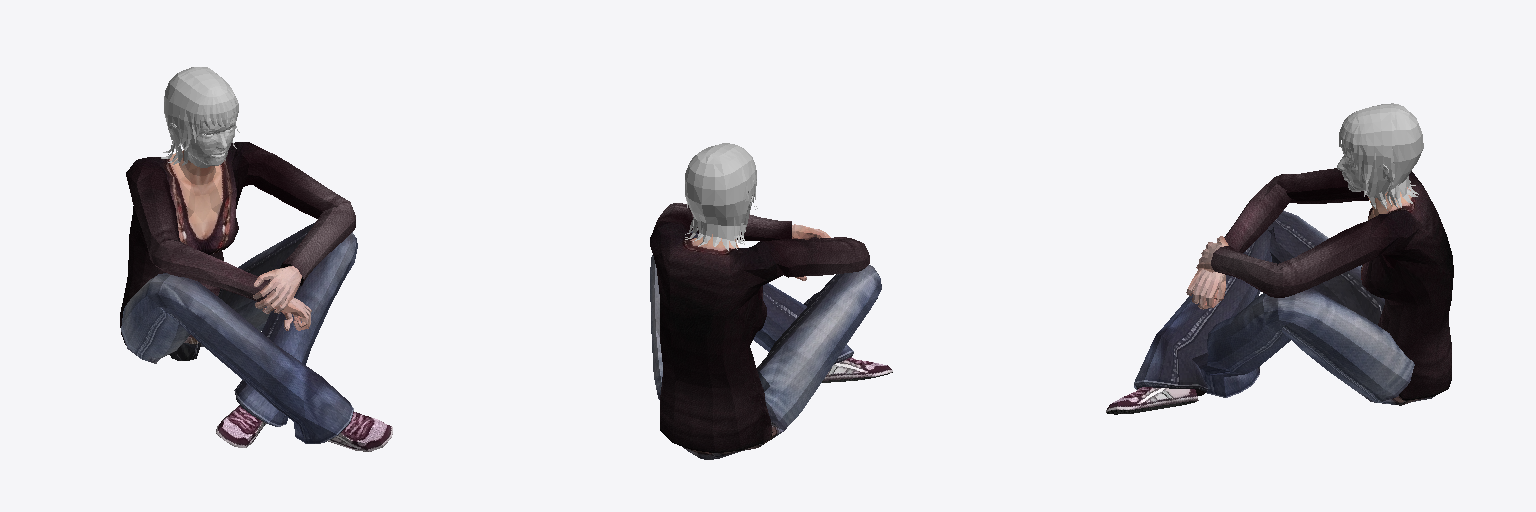
3 views of the same model, side by side, from view 1: azimuth 30°, elevation 25°; view 2: azimuth 150°, elevation 25°; view 3: azimuth 270°, elevation 25° (orthographic).
Visible parts, largest first — view 1: obj1221polySurface1161; view 2: obj1221polySurface1161; view 3: obj1221polySurface1161.
Part boxes in pixels (left/top/right/bottom): obj1221polySurface1161: left=120, top=67, right=392, bottom=451; obj1221polySurface1161: left=650, top=143, right=892, bottom=459; obj1221polySurface1161: left=1106, top=103, right=1453, bottom=414.
Bounding box in the file's own units: 56.2 × 75.77 × 81.68.
Materials: 3 (1 with a texture image).